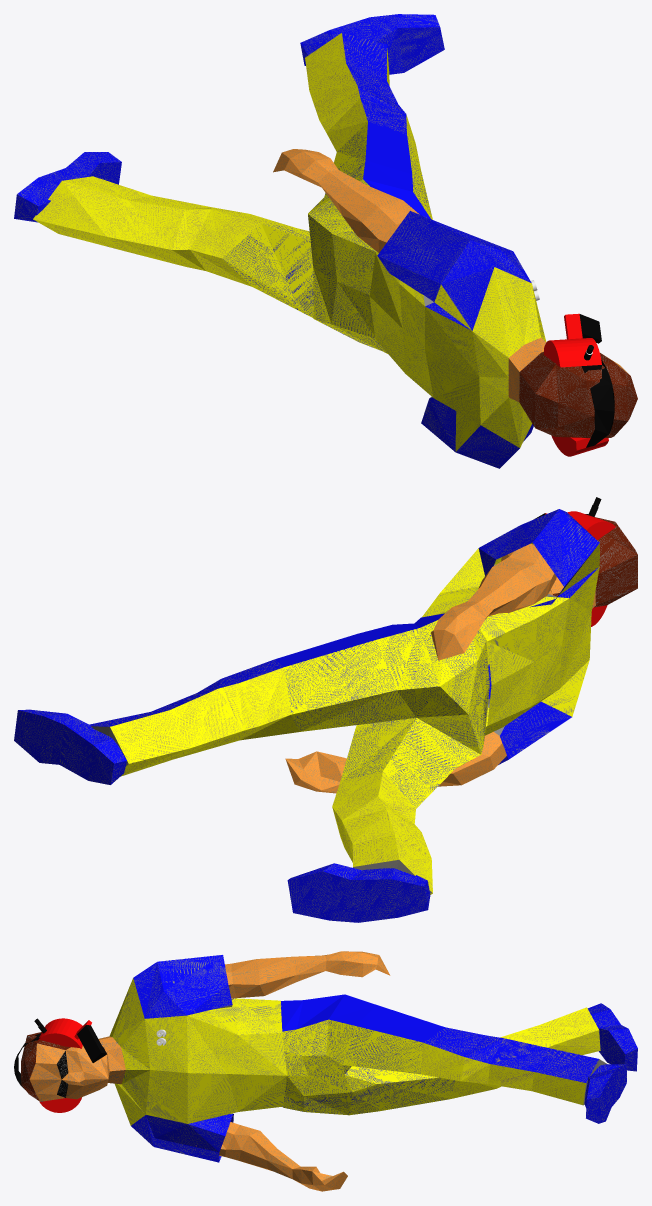
3 renders of one model, top to bottom at view 1: azimuth 30°, elevation 25°; view 2: azimuth 150°, elevation 25°; view 3: azimuth 270°, elevation 25°, orthographic. The views are drawn at different scales.
Visible parts, largest first — view 1: crew cheif; view 2: crew cheif; view 3: crew cheif.
Boxes of the visible parts, x1,y1,x2,y2 form: crew cheif: [14, 14, 637, 468]; crew cheif: [14, 497, 637, 922]; crew cheif: [14, 951, 637, 1191].
Size of the model in its own units: 42.36 by 23.86 by 71.65.
